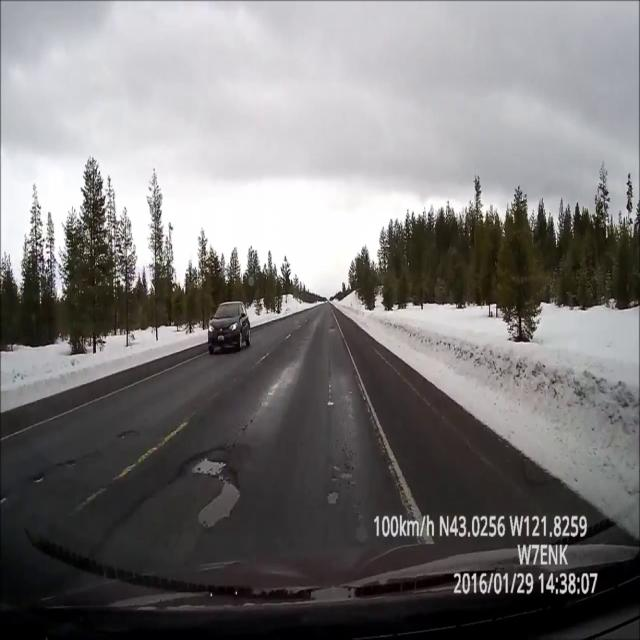Pothole: (198, 476, 245, 531), (188, 451, 239, 474), (329, 325, 337, 332)
